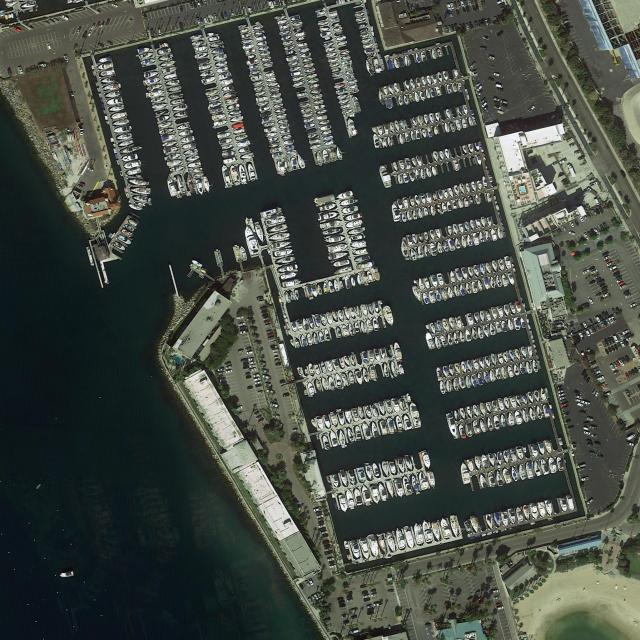large-vehicle: (567, 164, 577, 178)
ship: (241, 224, 259, 258), (377, 164, 394, 190), (408, 401, 422, 429), (382, 304, 396, 328), (367, 534, 381, 558), (448, 514, 461, 539), (259, 206, 283, 219), (403, 525, 416, 549), (446, 413, 458, 438), (458, 462, 471, 485), (358, 538, 371, 561), (394, 527, 406, 550), (412, 522, 424, 545), (253, 222, 266, 243), (165, 175, 177, 197), (175, 174, 187, 196), (265, 214, 287, 226), (220, 164, 232, 186), (385, 532, 397, 554), (421, 519, 432, 543), (439, 517, 451, 539), (423, 330, 436, 350), (361, 484, 372, 507), (268, 231, 291, 242), (319, 219, 342, 230), (401, 475, 413, 496), (281, 277, 302, 289), (345, 488, 356, 510), (271, 239, 293, 250), (317, 210, 339, 221), (369, 485, 381, 505), (377, 536, 389, 556), (393, 478, 404, 499), (185, 172, 196, 193), (237, 164, 248, 185), (229, 165, 240, 186), (327, 242, 348, 253), (274, 247, 295, 258), (275, 255, 296, 266), (314, 193, 335, 204), (346, 117, 358, 136), (417, 471, 429, 490), (349, 540, 361, 559), (390, 203, 401, 223), (399, 238, 410, 258), (421, 450, 432, 470), (426, 470, 437, 490), (102, 81, 122, 92), (246, 162, 257, 182), (267, 223, 287, 234), (327, 251, 349, 261), (278, 263, 298, 274), (431, 522, 442, 542), (84, 246, 94, 267), (351, 95, 362, 114), (328, 429, 339, 448), (361, 421, 372, 440), (338, 494, 349, 513), (385, 480, 396, 499), (469, 515, 480, 534), (378, 482, 388, 502), (113, 125, 133, 135), (322, 227, 342, 237), (333, 266, 353, 276), (392, 342, 403, 360), (202, 176, 213, 194), (411, 285, 422, 303), (524, 462, 535, 480), (117, 234, 133, 246), (410, 474, 420, 493), (104, 89, 123, 99), (353, 487, 363, 506), (123, 160, 142, 170), (296, 153, 307, 170), (376, 88, 386, 106), (121, 153, 139, 163), (115, 132, 133, 142), (128, 178, 148, 187), (159, 59, 177, 69), (195, 179, 205, 197), (345, 219, 363, 229), (341, 205, 359, 215), (328, 234, 346, 244), (529, 502, 539, 520), (547, 456, 557, 474), (133, 194, 152, 203), (347, 227, 366, 236), (331, 259, 350, 268), (337, 429, 347, 446), (404, 455, 414, 472), (380, 460, 390, 477), (384, 398, 394, 415), (347, 469, 357, 486), (304, 284, 314, 301), (336, 190, 353, 200), (281, 271, 298, 281), (494, 470, 504, 487), (486, 471, 496, 488), (502, 468, 512, 485), (540, 458, 550, 475), (532, 460, 542, 477), (130, 186, 151, 194), (110, 111, 128, 120), (112, 118, 130, 127), (119, 146, 137, 155), (319, 203, 337, 212), (58, 570, 76, 579), (20, 1, 38, 10), (276, 159, 286, 175), (402, 414, 412, 430), (391, 398, 401, 414), (333, 373, 343, 389), (354, 371, 364, 387), (98, 61, 114, 71), (331, 473, 341, 489), (356, 467, 366, 483), (364, 465, 374, 481), (537, 502, 547, 518), (507, 509, 517, 525), (485, 514, 495, 530), (113, 241, 127, 252), (370, 421, 379, 438), (106, 97, 123, 106), (108, 104, 125, 113), (166, 158, 183, 167), (146, 82, 163, 91), (356, 261, 373, 270), (354, 254, 371, 263), (350, 240, 367, 249), (344, 213, 361, 222), (339, 198, 356, 207), (510, 466, 519, 483), (517, 464, 526, 481), (371, 462, 381, 477), (478, 474, 488, 489), (321, 148, 330, 164), (372, 133, 381, 149), (138, 51, 154, 60), (140, 57, 156, 66), (329, 411, 338, 427), (323, 414, 332, 430), (379, 419, 388, 435), (397, 458, 406, 474), (378, 401, 387, 417), (100, 76, 116, 85), (340, 469, 348, 487), (118, 139, 134, 148), (126, 167, 142, 176), (158, 53, 174, 62), (162, 65, 178, 74), (167, 84, 183, 93), (148, 89, 164, 98), (185, 154, 201, 163), (372, 266, 381, 282), (239, 245, 248, 261), (464, 421, 473, 437), (473, 455, 482, 471), (493, 512, 502, 528), (500, 510, 509, 526), (515, 506, 524, 522), (522, 505, 531, 521), (545, 500, 554, 516), (566, 495, 575, 511), (555, 456, 564, 472), (373, 59, 383, 73), (515, 446, 525, 460), (190, 259, 204, 269), (163, 146, 180, 154), (150, 95, 167, 103), (335, 145, 344, 160), (328, 147, 337, 162), (429, 242, 438, 257), (353, 425, 362, 440), (346, 427, 355, 442), (316, 415, 325, 430), (344, 410, 353, 425), (306, 381, 315, 396), (314, 378, 323, 393), (364, 405, 373, 420), (368, 365, 377, 380), (361, 367, 370, 382), (100, 69, 115, 78), (219, 78, 234, 87), (165, 78, 180, 87), (158, 120, 173, 129), (146, 76, 161, 85), (454, 267, 463, 282), (478, 419, 487, 434), (537, 441, 546, 456), (530, 443, 539, 458), (487, 452, 496, 467), (480, 453, 489, 468), (559, 497, 568, 512), (463, 520, 472, 535), (315, 151, 323, 167), (322, 434, 330, 450), (395, 415, 403, 431), (166, 152, 182, 160), (162, 140, 178, 148), (159, 127, 175, 135), (152, 102, 168, 110), (169, 165, 185, 173), (172, 104, 188, 112), (178, 129, 194, 137), (180, 136, 196, 144), (183, 148, 199, 156), (361, 271, 369, 287), (283, 158, 292, 172), (289, 156, 298, 170), (503, 256, 512, 270), (507, 272, 516, 286), (337, 412, 346, 426), (351, 409, 360, 423), (357, 406, 366, 420), (327, 376, 336, 390), (128, 203, 142, 212), (197, 56, 211, 65), (472, 420, 481, 434), (478, 402, 487, 416), (466, 459, 475, 473), (508, 395, 517, 409), (441, 318, 450, 332), (433, 336, 442, 350), (476, 326, 485, 340), (466, 312, 475, 326), (488, 322, 497, 336), (321, 376, 329, 391), (389, 461, 397, 476), (341, 372, 349, 387), (121, 228, 133, 238), (144, 70, 159, 78), (213, 53, 228, 61), (157, 47, 172, 55), (199, 70, 214, 78), (201, 76, 216, 84), (223, 90, 238, 98), (217, 72, 232, 80), (212, 113, 227, 121), (217, 131, 232, 139), (161, 133, 176, 141), (170, 98, 185, 106), (353, 248, 368, 256), (351, 233, 366, 241), (236, 140, 251, 148), (244, 215, 252, 230), (486, 417, 494, 432), (458, 423, 466, 438), (502, 450, 510, 465), (544, 439, 552, 454), (535, 405, 543, 420), (514, 410, 522, 425), (447, 238, 456, 251), (497, 259, 506, 272), (472, 264, 481, 277), (332, 279, 341, 292), (343, 276, 352, 289), (436, 273, 445, 286), (465, 233, 473, 247), (472, 232, 480, 246), (371, 404, 379, 418), (361, 303, 369, 317), (365, 318, 373, 332), (382, 363, 390, 377), (307, 362, 315, 376), (373, 348, 381, 362), (194, 45, 208, 53), (225, 97, 239, 105), (222, 150, 236, 158), (214, 119, 228, 127), (157, 115, 171, 123), (168, 92, 184, 99), (230, 115, 244, 123), (310, 284, 318, 298), (296, 319, 304, 333), (323, 328, 331, 342), (284, 290, 292, 304), (240, 152, 254, 160), (470, 374, 478, 388), (507, 412, 515, 426), (510, 449, 518, 463), (521, 409, 529, 423), (539, 387, 547, 401), (542, 404, 550, 418), (531, 359, 539, 373), (512, 363, 520, 377), (464, 328, 472, 342), (470, 280, 478, 294), (440, 288, 448, 302), (428, 290, 436, 304), (513, 317, 521, 331), (127, 218, 139, 227), (390, 361, 397, 376), (372, 317, 379, 332), (194, 52, 209, 59), (163, 73, 178, 80), (182, 143, 197, 150), (187, 161, 202, 168), (439, 380, 446, 395), (495, 275, 503, 288), (423, 244, 431, 257), (409, 248, 417, 261), (337, 310, 345, 323), (398, 398, 406, 411), (359, 320, 367, 333), (347, 322, 355, 335), (341, 324, 349, 337), (379, 347, 387, 360), (361, 351, 369, 364), (367, 350, 375, 363), (98, 56, 111, 64), (215, 60, 228, 68), (326, 312, 334, 325), (231, 121, 244, 129), (466, 406, 474, 419), (472, 404, 480, 417), (497, 398, 505, 411), (460, 361, 468, 374), (490, 353, 498, 366), (488, 370, 496, 383), (528, 408, 536, 421), (506, 365, 514, 378), (446, 333, 454, 346), (448, 317, 456, 330), (440, 334, 448, 347), (452, 332, 460, 345), (429, 322, 437, 335), (470, 327, 478, 340), (435, 320, 443, 333), (430, 275, 438, 288), (446, 286, 454, 299), (422, 292, 430, 305), (417, 277, 425, 290), (482, 371, 490, 384), (503, 304, 511, 317), (509, 302, 517, 315), (508, 349, 516, 362), (520, 346, 528, 359), (124, 223, 135, 232), (263, 126, 277, 133), (269, 147, 283, 154), (490, 228, 497, 242), (198, 64, 212, 71), (191, 39, 205, 46), (205, 89, 219, 96), (210, 107, 224, 114), (219, 138, 233, 145), (174, 111, 188, 118), (302, 317, 309, 331), (461, 266, 468, 280), (493, 415, 500, 429), (500, 414, 507, 428), (496, 452, 503, 466), (452, 378, 459, 392), (501, 366, 508, 380), (483, 325, 490, 339), (465, 375, 472, 389), (491, 306, 498, 320), (402, 197, 410, 209), (501, 274, 509, 286), (463, 221, 471, 233), (404, 158, 412, 170), (452, 160, 460, 172), (432, 151, 440, 163), (475, 154, 483, 166), (413, 169, 421, 181), (138, 46, 150, 54), (349, 307, 357, 319), (332, 359, 340, 371), (349, 354, 357, 366), (327, 281, 335, 293), (314, 316, 322, 328), (239, 146, 251, 154), (488, 276, 496, 288), (482, 278, 490, 290), (459, 408, 467, 420), (503, 397, 511, 409), (454, 363, 462, 375), (484, 356, 492, 368), (472, 359, 480, 371), (527, 392, 535, 404), (458, 331, 466, 343), (464, 282, 472, 294), (458, 284, 466, 296), (497, 306, 505, 318), (526, 346, 534, 358), (514, 349, 522, 361), (338, 98, 351, 105), (289, 65, 302, 72), (246, 58, 259, 65), (318, 119, 331, 126), (319, 124, 332, 131), (250, 74, 263, 81), (460, 235, 467, 248), (496, 227, 503, 240), (479, 263, 486, 276), (442, 240, 449, 253), (417, 245, 424, 258), (355, 305, 362, 318), (348, 371, 355, 384), (326, 360, 333, 373), (344, 308, 351, 321), (211, 48, 224, 55), (210, 42, 223, 49), (208, 35, 221, 42), (221, 85, 234, 92), (209, 101, 222, 108), (177, 124, 190, 131), (227, 103, 240, 110), (229, 109, 242, 116), (366, 270, 373, 283), (322, 282, 329, 295), (306, 333, 313, 346), (300, 334, 307, 347), (308, 317, 315, 330), (235, 134, 248, 141), (448, 364, 455, 377), (436, 366, 443, 379), (525, 361, 532, 374), (479, 310, 486, 323), (449, 270, 456, 283), (435, 289, 442, 302), (477, 373, 484, 386), (495, 320, 502, 333), (507, 318, 514, 331), (470, 181, 478, 192), (453, 185, 461, 196), (343, 356, 351, 367), (304, 122, 316, 129), (309, 138, 321, 145), (341, 108, 353, 115), (286, 55, 298, 62), (274, 14, 286, 21), (281, 34, 293, 41), (337, 93, 349, 100), (359, 32, 371, 39), (362, 42, 374, 49), (403, 55, 410, 67), (303, 62, 315, 69), (307, 77, 319, 84), (270, 92, 282, 99), (271, 97, 283, 104), (263, 121, 275, 128), (260, 111, 272, 118), (242, 43, 254, 50), (254, 90, 266, 97), (316, 114, 328, 121), (266, 131, 278, 138), (481, 175, 488, 187), (459, 183, 466, 195), (454, 238, 461, 250), (411, 209, 418, 221), (420, 193, 427, 205), (478, 231, 485, 243), (484, 230, 491, 242), (491, 260, 498, 272), (485, 263, 492, 275), (467, 266, 474, 278), (436, 242, 443, 254), (389, 121, 396, 133), (394, 120, 401, 132), (400, 119, 407, 131), (417, 115, 424, 127), (393, 82, 400, 94), (409, 78, 416, 90), (415, 77, 422, 89), (398, 133, 405, 145), (419, 168, 426, 180), (402, 172, 409, 184), (443, 122, 450, 134), (445, 108, 452, 120), (462, 104, 469, 116), (455, 119, 462, 131), (373, 301, 380, 313), (398, 363, 405, 375), (353, 321, 360, 333), (314, 364, 321, 376), (331, 310, 338, 322), (335, 326, 342, 338), (208, 95, 220, 102), (217, 67, 229, 74), (155, 109, 167, 116), (316, 284, 323, 296), (318, 330, 325, 342), (312, 332, 319, 344), (320, 314, 327, 326), (294, 289, 301, 301), (233, 128, 245, 135), (515, 395, 522, 407), (478, 357, 485, 369), (466, 360, 473, 372), (442, 366, 449, 378), (445, 380, 452, 392), (458, 377, 465, 389), (519, 362, 526, 374), (455, 317, 462, 329), (473, 312, 480, 324), (453, 285, 460, 297), (485, 310, 492, 322), (398, 56, 405, 68), (519, 317, 526, 329), (515, 301, 522, 313), (309, 144, 322, 150), (255, 96, 268, 102), (271, 152, 284, 158), (190, 34, 203, 40), (5, 1, 18, 7), (501, 320, 507, 333), (292, 81, 303, 88), (301, 107, 312, 114), (303, 117, 314, 124), (340, 103, 351, 110), (288, 60, 299, 67), (283, 39, 294, 46), (336, 35, 347, 42), (323, 41, 334, 48), (268, 81, 279, 88), (279, 123, 290, 130), (262, 116, 273, 123), (258, 45, 269, 52), (258, 100, 269, 107), (474, 194, 481, 205), (465, 183, 472, 194), (448, 187, 455, 198), (451, 199, 458, 210), (417, 208, 424, 219), (414, 195, 421, 206), (426, 193, 433, 204), (480, 217, 487, 228), (469, 220, 476, 231), (475, 219, 482, 230), (406, 235, 413, 246), (458, 223, 465, 234), (429, 230, 436, 241), (435, 228, 442, 239), (452, 224, 459, 235), (388, 84, 395, 95), (404, 80, 411, 91), (383, 124, 390, 135), (386, 136, 393, 147), (451, 82, 458, 93), (413, 91, 420, 102), (423, 114, 430, 125), (399, 160, 406, 171), (425, 167, 432, 178), (444, 149, 451, 160), (408, 172, 415, 183), (426, 127, 433, 138), (428, 113, 435, 124), (457, 106, 464, 117), (339, 358, 346, 369), (485, 402, 492, 413), (491, 400, 498, 411), (502, 352, 509, 363), (497, 353, 504, 364), (534, 391, 541, 402), (424, 278, 431, 289), (304, 68, 316, 74), (299, 102, 311, 108), (292, 76, 304, 82), (302, 57, 314, 63), (300, 52, 312, 58), (294, 32, 306, 38), (279, 30, 291, 36), (334, 83, 346, 89), (355, 16, 367, 22), (387, 58, 393, 70), (327, 57, 339, 63), (332, 72, 344, 78), (329, 62, 341, 68), (317, 20, 329, 26), (320, 31, 332, 37), (306, 73, 318, 79), (276, 113, 288, 119), (259, 106, 271, 112), (249, 69, 261, 75), (259, 51, 271, 57), (316, 109, 328, 115), (310, 88, 322, 94), (254, 85, 266, 91), (269, 142, 281, 148), (283, 139, 295, 145), (437, 189, 443, 201), (430, 205, 436, 217), (412, 233, 418, 245), (416, 155, 422, 167), (368, 303, 374, 315), (222, 144, 234, 150), (356, 274, 362, 286), (296, 92, 308, 98), (495, 368, 501, 380), (477, 279, 483, 291), (279, 24, 289, 31), (278, 118, 288, 125), (476, 181, 483, 191), (383, 86, 390, 96), (411, 117, 418, 127), (438, 151, 445, 161), (311, 418, 318, 428), (453, 410, 460, 420), (291, 71, 302, 77), (307, 133, 318, 139), (299, 47, 310, 53), (292, 21, 303, 27), (277, 19, 288, 25), (361, 38, 372, 44), (337, 40, 348, 46), (393, 58, 399, 69), (326, 52, 337, 58), (316, 10, 327, 16), (325, 47, 336, 53), (266, 77, 277, 83), (269, 87, 280, 93), (273, 103, 284, 109), (275, 108, 286, 114), (249, 64, 260, 70), (254, 30, 265, 36), (262, 61, 273, 67), (245, 49, 256, 55), (261, 56, 272, 62), (322, 135, 333, 141), (321, 130, 332, 136), (315, 104, 326, 110), (313, 99, 324, 105), (312, 93, 323, 99), (253, 80, 264, 86), (286, 149, 297, 155), (415, 53, 421, 64), (431, 49, 437, 60), (486, 192, 492, 203), (443, 189, 449, 200), (406, 210, 412, 221), (397, 199, 403, 210), (446, 201, 452, 212), (409, 196, 415, 207), (403, 94, 409, 105), (437, 72, 443, 83), (442, 70, 448, 81), (421, 76, 427, 87), (425, 88, 431, 99), (397, 174, 403, 185), (404, 132, 410, 143), (461, 118, 467, 129), (321, 363, 327, 374), (193, 167, 204, 173), (193, 172, 204, 178), (350, 277, 356, 288), (291, 322, 297, 333), (28, 7, 39, 13), (423, 232, 430, 241), (294, 339, 301, 348), (303, 112, 313, 118), (291, 16, 301, 22), (298, 42, 308, 48), (284, 45, 294, 51), (348, 84, 358, 90), (340, 50, 350, 56), (354, 12, 364, 18), (333, 26, 343, 32), (320, 26, 330, 32), (265, 72, 275, 78), (253, 25, 263, 31), (241, 33, 251, 39), (324, 140, 334, 146), (309, 83, 319, 89), (282, 134, 292, 140), (420, 52, 426, 62), (463, 197, 469, 207), (457, 198, 463, 208), (401, 212, 407, 222), (441, 202, 447, 212), (447, 226, 453, 236), (397, 96, 403, 106), (377, 126, 383, 136), (453, 68, 459, 78), (457, 82, 463, 92), (446, 84, 452, 94), (435, 86, 441, 96), (432, 74, 438, 84), (426, 76, 432, 86), (429, 88, 435, 98), (419, 90, 425, 100), (462, 145, 468, 155), (431, 166, 437, 176), (393, 162, 399, 172), (433, 126, 439, 136), (421, 129, 427, 139), (450, 123, 456, 133), (522, 395, 528, 405), (343, 540, 349, 550), (347, 79, 358, 84), (342, 60, 353, 65), (242, 39, 253, 44), (255, 36, 266, 41), (468, 116, 473, 127), (329, 12, 338, 18), (346, 74, 355, 80), (342, 55, 351, 61), (269, 137, 278, 143), (423, 207, 429, 216), (418, 233, 424, 242), (411, 158, 417, 167), (408, 93, 414, 102), (468, 144, 474, 153), (474, 142, 480, 151), (415, 130, 421, 139), (435, 113, 441, 122), (406, 393, 412, 402), (240, 29, 250, 34), (257, 41, 267, 46), (281, 129, 291, 134), (285, 145, 295, 150), (487, 217, 492, 227), (410, 130, 415, 140), (297, 368, 303, 376), (286, 50, 294, 56), (432, 193, 438, 201), (388, 349, 394, 357), (289, 339, 295, 347), (326, 476, 332, 484), (331, 17, 340, 22), (343, 65, 352, 70), (437, 49, 442, 58), (365, 48, 374, 53), (496, 203, 501, 212), (303, 369, 309, 376), (346, 554, 352, 561), (333, 503, 339, 510), (345, 70, 353, 75), (248, 54, 256, 59), (335, 31, 343, 36), (331, 68, 339, 73), (206, 32, 214, 37), (367, 52, 373, 58), (298, 36, 305, 41), (500, 528, 507, 533), (361, 28, 368, 33), (142, 80, 147, 87), (349, 113, 356, 118), (470, 109, 475, 116), (119, 170, 124, 176), (481, 152, 486, 158), (125, 193, 130, 199), (464, 89, 469, 95), (372, 127, 377, 133), (472, 158, 476, 165), (480, 146, 484, 153), (340, 445, 347, 449), (486, 532, 493, 536), (354, 1, 361, 5), (145, 92, 149, 99), (335, 409, 342, 413), (532, 344, 537, 349), (544, 388, 549, 393), (371, 31, 375, 37), (373, 37, 377, 43), (375, 43, 379, 49), (324, 36, 330, 40), (359, 24, 365, 28), (92, 70, 96, 76), (530, 522, 536, 526), (124, 187, 128, 193), (529, 330, 533, 336), (549, 404, 553, 410), (316, 434, 320, 440), (523, 447, 527, 453), (466, 94, 470, 100), (473, 120, 477, 126), (304, 390, 308, 396), (492, 531, 499, 534), (334, 23, 341, 26), (363, 463, 370, 466), (483, 157, 487, 162), (486, 170, 490, 175), (511, 263, 515, 268), (437, 208, 441, 213), (522, 303, 526, 308), (526, 319, 530, 324), (283, 325, 287, 330), (95, 82, 99, 87), (97, 87, 101, 92), (106, 120, 110, 125), (527, 325, 531, 330), (551, 414, 555, 419), (550, 409, 554, 414), (416, 491, 421, 495), (472, 116, 476, 121), (513, 268, 517, 272), (112, 144, 116, 148), (530, 335, 534, 339), (482, 533, 486, 537), (493, 196, 496, 201), (99, 93, 102, 98), (559, 441, 564, 444), (370, 26, 373, 31), (440, 212, 444, 215), (532, 340, 535, 344), (559, 444, 564, 446)
small-vehicle: (626, 433, 636, 441), (13, 26, 23, 34), (527, 105, 536, 113), (60, 15, 70, 22), (624, 389, 631, 398), (593, 391, 600, 400), (583, 232, 590, 241), (612, 334, 619, 343), (270, 402, 279, 409), (307, 596, 314, 605), (625, 441, 635, 447), (234, 405, 244, 411), (36, 63, 46, 69), (621, 357, 628, 365), (609, 363, 616, 371), (603, 391, 611, 398), (582, 399, 590, 406), (587, 498, 594, 506), (629, 302, 637, 309), (622, 289, 630, 296), (598, 206, 605, 214), (586, 212, 593, 220), (593, 228, 600, 236), (617, 332, 624, 340), (578, 333, 585, 341), (253, 410, 261, 417), (310, 595, 317, 603), (559, 158, 567, 165), (620, 170, 627, 178), (75, 26, 83, 33), (48, 18, 56, 25), (560, 402, 569, 408), (581, 476, 590, 482), (609, 265, 618, 271), (581, 269, 590, 275), (351, 629, 360, 635), (313, 507, 322, 513), (63, 54, 69, 63), (7, 68, 13, 77), (618, 359, 625, 366), (595, 291, 602, 298), (594, 325, 601, 332), (304, 580, 311, 587), (298, 583, 305, 590), (496, 30, 503, 37), (481, 101, 488, 108), (476, 85, 483, 92), (477, 89, 484, 96), (480, 97, 487, 104), (482, 105, 489, 112), (633, 367, 639, 375), (607, 346, 613, 354), (576, 402, 584, 408), (579, 410, 587, 416), (594, 440, 602, 446), (601, 285, 609, 291), (624, 293, 632, 299), (597, 279, 605, 285), (619, 283, 627, 289), (617, 280, 625, 286), (588, 279, 596, 285), (574, 219, 580, 227), (591, 209, 597, 217), (625, 336, 633, 342), (606, 337, 612, 345), (610, 336, 616, 344), (622, 329, 630, 335), (623, 332, 631, 338), (598, 314, 604, 322), (611, 308, 617, 316), (255, 414, 263, 420), (314, 593, 320, 601), (264, 382, 272, 388), (263, 374, 271, 380), (461, 6, 467, 14), (448, 10, 454, 18), (470, 61, 476, 69), (566, 137, 574, 143), (550, 162, 558, 168), (594, 198, 600, 206), (566, 26, 574, 32), (500, 99, 508, 105), (561, 15, 569, 21), (192, 1, 198, 9), (90, 23, 96, 31), (95, 21, 101, 29), (106, 40, 114, 46), (247, 6, 253, 14), (43, 20, 51, 26), (111, 3, 119, 9), (17, 66, 23, 74), (372, 602, 381, 607), (259, 305, 268, 310), (264, 323, 273, 328), (324, 550, 333, 555), (248, 368, 257, 373), (625, 356, 631, 363), (628, 371, 634, 378), (615, 361, 621, 368), (612, 362, 618, 369), (585, 377, 591, 384), (610, 345, 616, 352), (604, 348, 610, 355), (467, 595, 474, 601), (584, 430, 591, 436), (587, 443, 594, 449), (617, 342, 623, 349), (620, 341, 626, 348), (623, 339, 629, 346), (599, 283, 606, 289), (602, 289, 609, 295), (613, 271, 620, 277), (579, 216, 585, 223), (595, 208, 601, 215), (589, 265, 596, 271), (611, 268, 618, 274), (609, 318, 615, 325), (592, 366, 599, 372), (604, 339, 610, 346), (603, 255, 610, 261), (602, 251, 609, 257), (582, 321, 588, 328), (579, 323, 585, 330), (588, 318, 594, 325), (601, 312, 607, 319), (605, 311, 611, 318), (615, 307, 621, 314), (585, 330, 591, 337), (569, 230, 576, 236), (308, 578, 314, 585), (317, 592, 323, 599), (562, 225, 568, 232), (465, 6, 471, 13), (446, 3, 452, 10), (500, 5, 507, 11), (77, 184, 84, 190), (87, 192, 93, 199), (496, 16, 502, 23), (574, 149, 581, 155), (578, 155, 585, 161), (590, 181, 597, 187), (157, 28, 163, 35), (97, 42, 104, 48), (53, 18, 60, 24), (625, 372, 630, 380), (612, 370, 620, 375), (561, 406, 569, 411), (567, 425, 575, 430), (614, 343, 619, 351), (424, 622, 432, 627), (365, 604, 373, 609), (495, 602, 503, 607), (589, 425, 597, 430), (593, 274, 601, 279), (587, 230, 592, 238), (606, 261, 614, 266), (596, 376, 604, 381), (588, 361, 596, 366), (350, 615, 358, 620), (338, 603, 346, 608), (261, 309, 269, 314), (240, 330, 248, 335), (317, 520, 325, 525), (316, 514, 324, 519), (327, 557, 335, 562), (267, 389, 275, 394), (266, 329, 274, 334), (245, 347, 253, 352), (225, 369, 233, 374), (259, 361, 267, 366), (268, 336, 276, 341), (254, 380, 262, 385), (261, 369, 269, 374), (475, 3, 480, 11), (450, 2, 455, 10), (498, 2, 506, 7), (569, 142, 577, 147), (618, 191, 623, 199), (495, 83, 503, 88), (559, 11, 567, 16), (562, 19, 570, 24), (100, 20, 105, 28), (105, 19, 110, 27), (203, 16, 208, 24), (213, 13, 218, 21), (223, 11, 228, 19), (189, 2, 194, 10), (46, 42, 51, 50), (631, 369, 637, 375), (582, 375, 588, 381), (591, 389, 597, 395), (577, 464, 586, 468), (475, 589, 481, 595), (258, 417, 264, 423), (561, 177, 567, 183), (82, 32, 88, 38), (87, 31, 93, 37), (582, 369, 587, 376), (556, 386, 563, 391), (387, 625, 392, 632), (387, 589, 394, 594), (347, 598, 354, 603), (587, 417, 594, 422), (590, 433, 597, 438), (589, 298, 594, 305), (602, 293, 609, 298), (615, 275, 622, 280), (591, 269, 598, 274), (605, 203, 610, 210), (594, 370, 601, 375), (595, 373, 602, 378), (606, 319, 611, 326), (596, 316, 601, 323), (589, 328, 594, 335), (262, 313, 269, 318), (264, 319, 271, 324), (315, 511, 322, 516), (319, 527, 326, 532), (318, 524, 325, 529), (346, 594, 353, 599), (328, 560, 335, 565), (225, 365, 232, 370), (217, 371, 224, 376), (219, 377, 226, 382), (271, 348, 278, 353), (267, 332, 274, 337), (248, 357, 255, 362), (253, 373, 260, 378), (255, 383, 262, 388), (246, 385, 253, 390), (249, 364, 256, 369), (471, 5, 476, 12), (453, 1, 458, 8), (460, 0, 465, 7), (483, 36, 490, 41), (480, 46, 487, 51), (445, 12, 450, 19), (500, 15, 505, 22), (443, 26, 448, 33), (447, 26, 452, 33), (474, 21, 479, 28), (484, 19, 489, 26), (487, 18, 492, 25), (493, 17, 498, 24), (488, 56, 495, 61), (493, 72, 500, 77), (562, 181, 569, 186), (527, 150, 534, 155), (497, 87, 504, 92), (564, 22, 571, 27), (494, 105, 501, 110), (79, 182, 86, 187), (87, 167, 94, 172), (363, 594, 371, 598), (341, 614, 349, 618), (256, 296, 264, 300), (323, 544, 331, 548), (338, 600, 346, 604), (242, 362, 250, 366), (246, 351, 254, 355), (217, 368, 225, 372), (454, 23, 458, 31), (564, 412, 570, 417), (370, 589, 376, 594), (492, 589, 498, 594), (589, 450, 595, 455), (616, 278, 622, 283), (602, 206, 607, 212), (604, 321, 609, 327), (600, 322, 605, 328), (605, 258, 611, 263), (565, 418, 571, 423), (238, 349, 244, 354), (254, 377, 260, 382), (570, 222, 575, 228), (590, 178, 596, 183), (195, 18, 200, 24), (199, 17, 204, 23), (560, 399, 567, 403), (559, 396, 566, 400), (496, 606, 503, 610), (370, 593, 377, 597), (363, 598, 370, 602), (575, 399, 582, 403), (583, 427, 590, 431), (583, 421, 590, 425), (263, 317, 270, 321), (236, 316, 243, 320), (238, 322, 245, 326), (317, 518, 324, 522), (323, 540, 330, 544), (292, 428, 299, 432), (273, 414, 280, 418), (322, 534, 329, 538), (337, 597, 344, 601), (324, 547, 331, 551), (329, 564, 336, 568), (283, 393, 290, 397), (224, 362, 231, 366), (270, 345, 277, 349), (243, 366, 250, 370), (279, 380, 286, 384), (257, 391, 264, 395), (275, 362, 282, 366), (245, 375, 252, 379), (244, 372, 251, 376), (457, 1, 461, 8), (451, 24, 455, 31), (478, 20, 482, 27), (493, 98, 500, 102), (197, 1, 201, 8), (584, 216, 589, 221), (343, 620, 349, 624), (558, 390, 564, 394), (559, 393, 565, 397), (575, 395, 581, 399), (350, 609, 356, 613), (586, 439, 592, 443), (612, 317, 616, 323), (558, 229, 562, 235), (456, 10, 460, 16), (459, 25, 463, 31), (469, 23, 473, 29), (488, 77, 494, 81), (579, 468, 586, 471), (493, 597, 500, 600), (321, 531, 328, 534), (466, 23, 469, 30), (250, 361, 256, 364)
